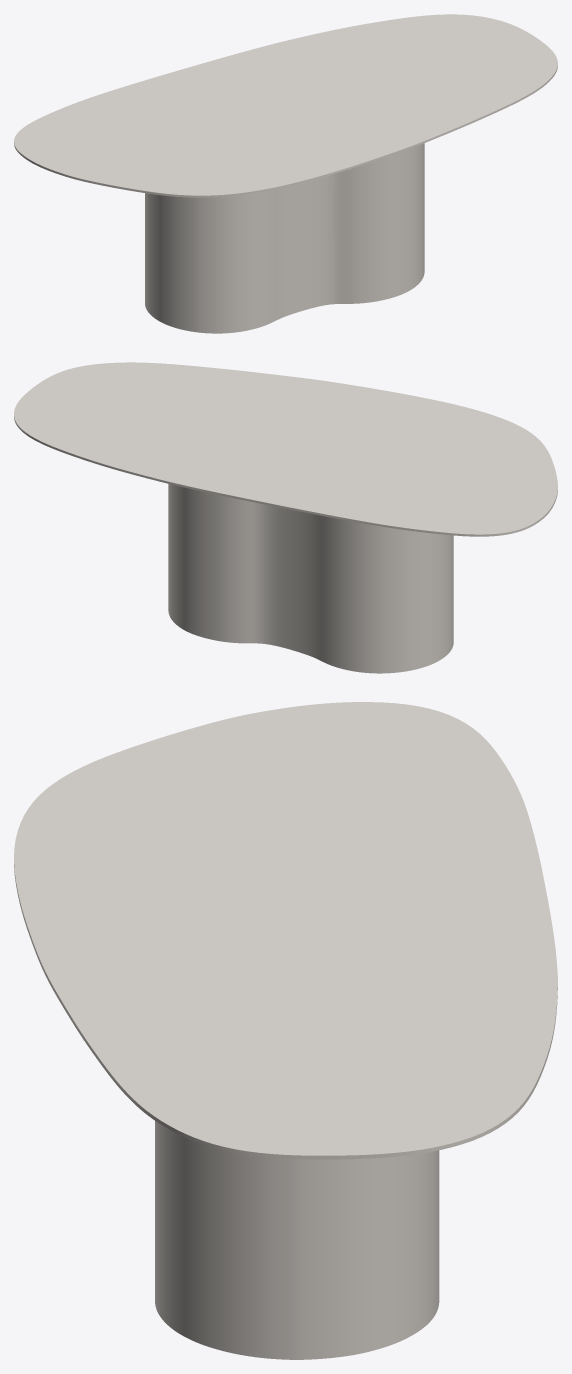
The model's file is pearlwhite_leaf2_facet_riverwave.glb.
The picture shows the model from 3 angles, top to bottom: view 1: azimuth 30°, elevation 25°; view 2: azimuth 150°, elevation 25°; view 3: azimuth 270°, elevation 25°; orthographic projection. The views are drawn at different scales.
Visible parts, largest first — view 1: facet_leaf2, riverwave; view 2: facet_leaf2, riverwave; view 3: facet_leaf2, riverwave.
Boxes of the visible parts, x1,y1,x2,y2 form: facet_leaf2: [14, 14, 557, 197]; riverwave: [145, 143, 424, 333]; facet_leaf2: [14, 362, 557, 536]; riverwave: [168, 484, 453, 673]; facet_leaf2: [14, 702, 557, 1159]; riverwave: [155, 1121, 439, 1359].
Bounding box in the file's own units: 7.5 × 2.5 × 3.8.
1 material, 1 textured.
